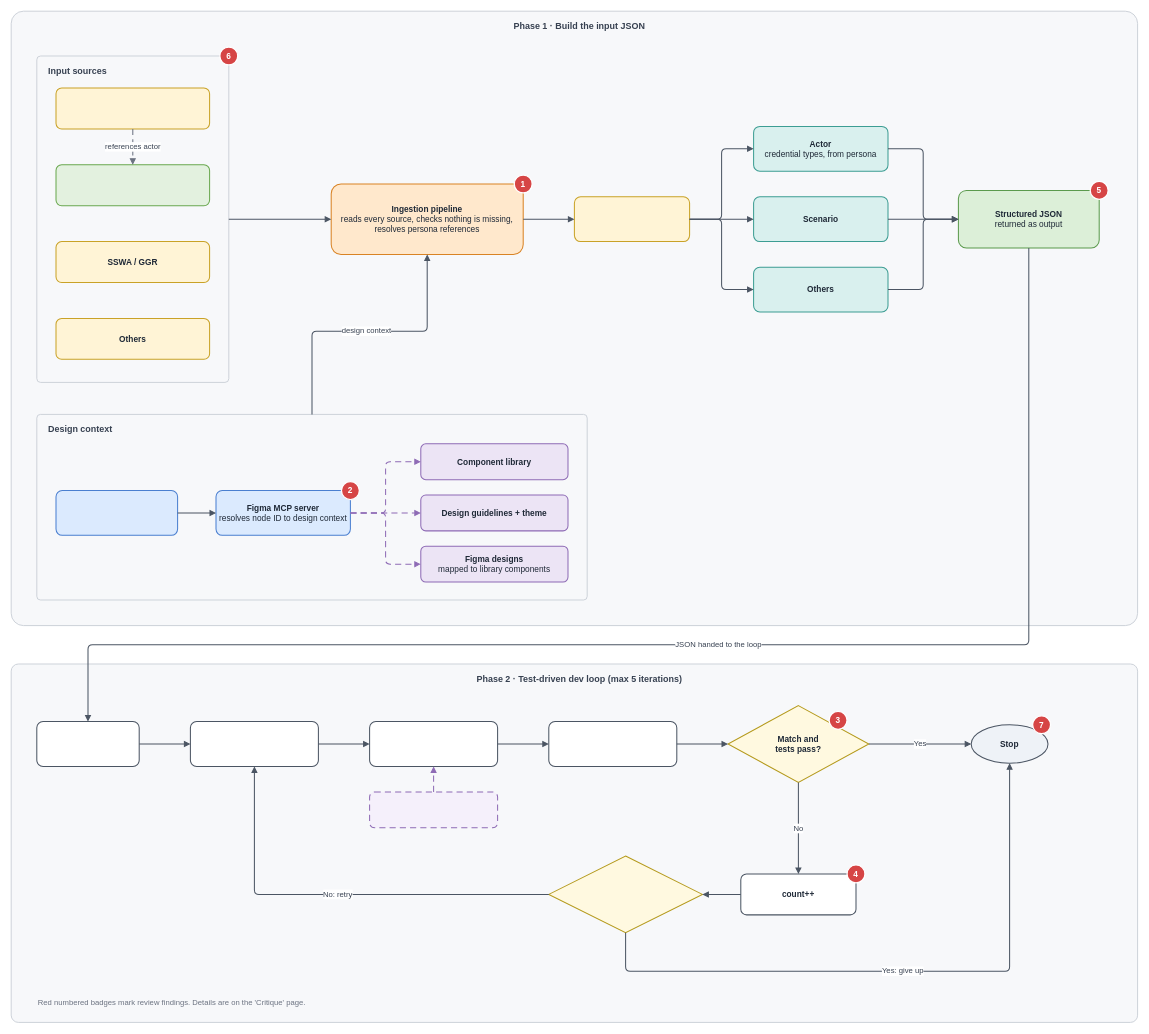
Image size: 1149x1034. Some labels were removed from this diagram. The shapes that lost their labels are listed below. From the top down, each one's centre as x and y in pixels, then its label:
pixel 132 108: JIRA references a persona by name
pixel 132 185: Persona.md actor definitions (or other .md)
pixel 632 219: Classify
pixel 116 513: Figma reference node ID in the ticket
pixel 87 744: Input JSON
pixel 254 744: Write tests BDD or unit
pixel 433 744: Do development against the tests
pixel 612 744: Run Playwright to validate
pixel 433 809: Builds with the component library and theme from Phase 1
pixel 625 894: More than 5 iterations?
